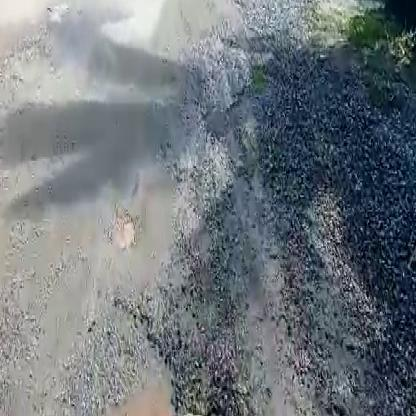pothole: (70, 364, 199, 416)
